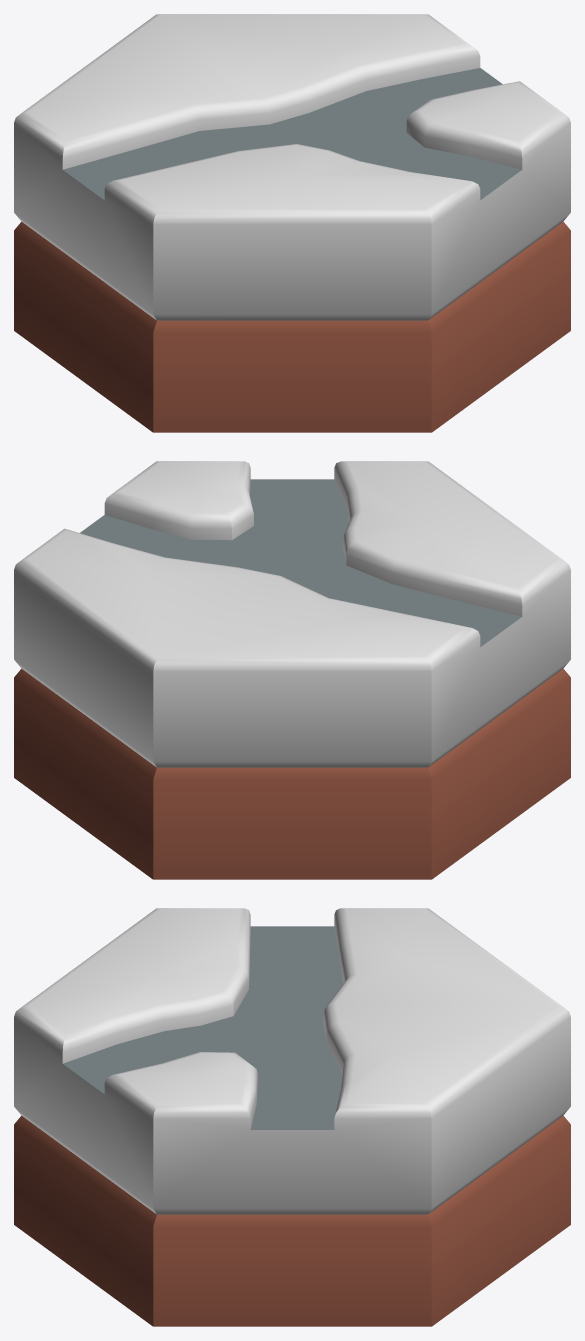
File: hex_snow_roadE_detail.gltf.glb
3 renders of one model, top to bottom at view 1: azimuth 30°, elevation 25°; view 2: azimuth 150°, elevation 25°; view 3: azimuth 270°, elevation 25°, orthographic.
Parts seen in each view (by area): view 1: hex_snow_roadE_detail; view 2: hex_snow_roadE_detail; view 3: hex_snow_roadE_detail.
Part boxes in pixels (<box>): hex_snow_roadE_detail: <box>14,14,570,432</box>; hex_snow_roadE_detail: <box>14,461,570,879</box>; hex_snow_roadE_detail: <box>14,908,570,1326</box>.
Size of the model in its own units: 2 by 1 by 2.31.
